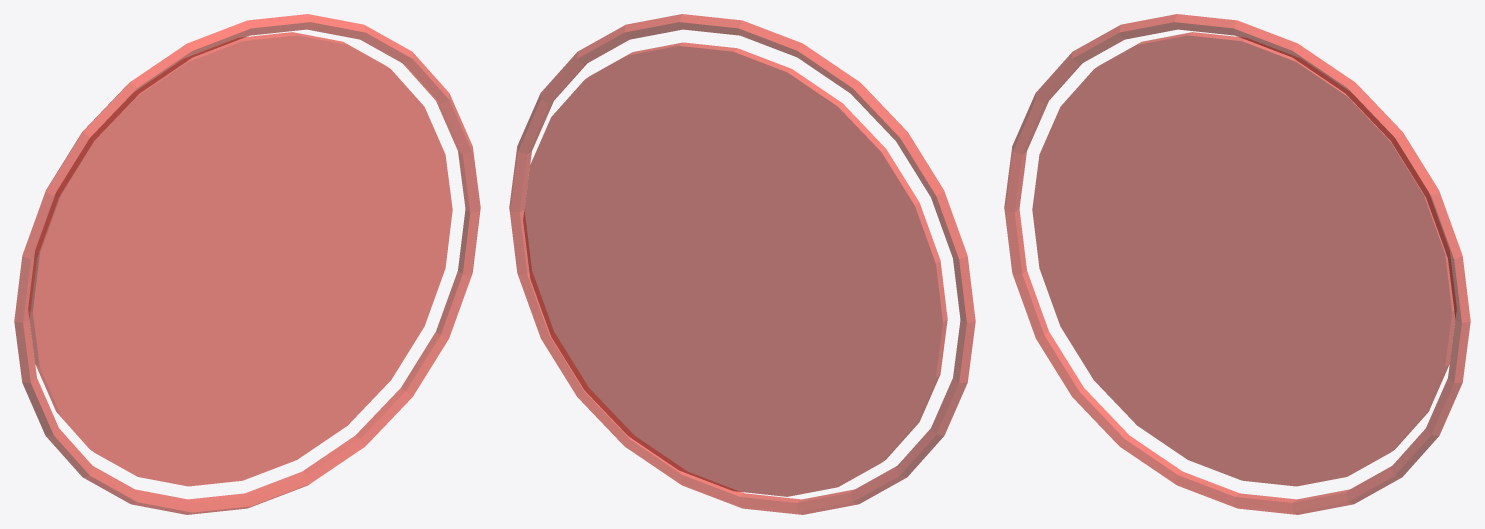
File: telegraph_warning_circle_small.glb
The picture shows the model from 3 angles, left to right: view 1: azimuth 30°, elevation 25°; view 2: azimuth 150°, elevation 25°; view 3: azimuth 330°, elevation 25°; orthographic projection.
Parts seen in each view (by area): view 1: disc, ring; view 2: disc, ring; view 3: disc, ring.
Part boxes in pixels (<box>): disc: <box>28,32,452,486</box>; ring: <box>14,14,480,514</box>; disc: <box>523,42,947,496</box>; ring: <box>509,14,975,514</box>; disc: <box>1032,32,1456,486</box>; ring: <box>1004,14,1470,514</box>.
Bounding box in the file's own units: 1.44 × 1.44 × 0.0714.
